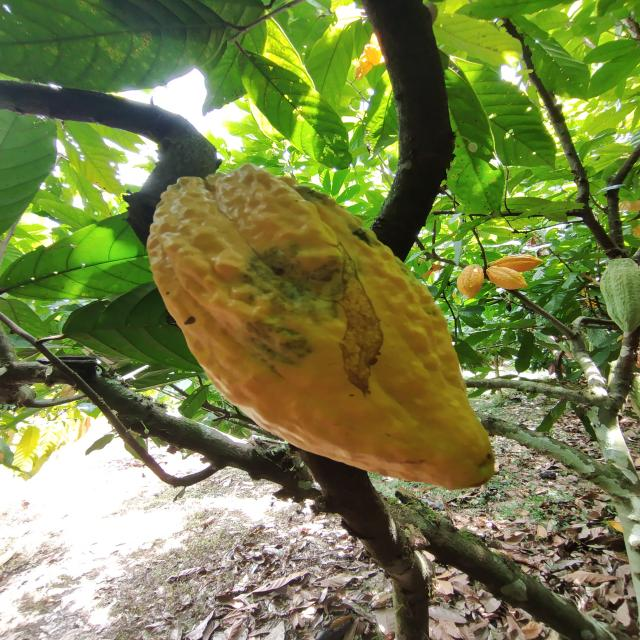Monilia: (146, 170, 500, 489)
Sana: (596, 254, 640, 334), (487, 264, 537, 287), (494, 255, 549, 270), (460, 262, 483, 294)
